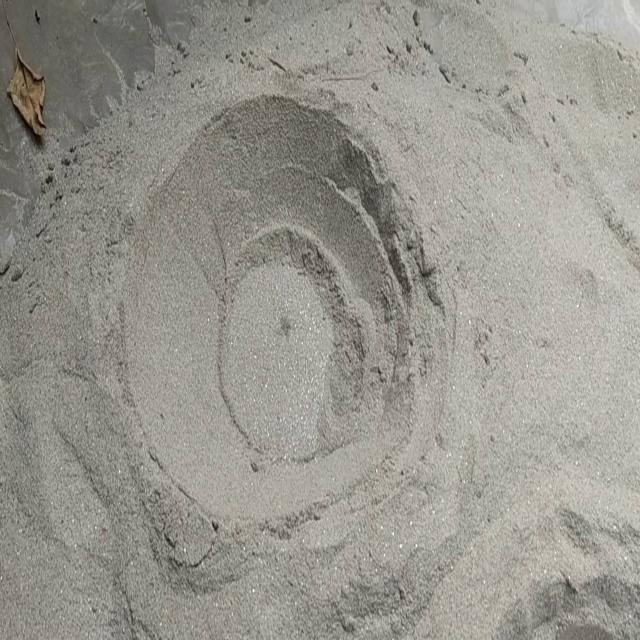C20: (125, 98, 452, 527)
